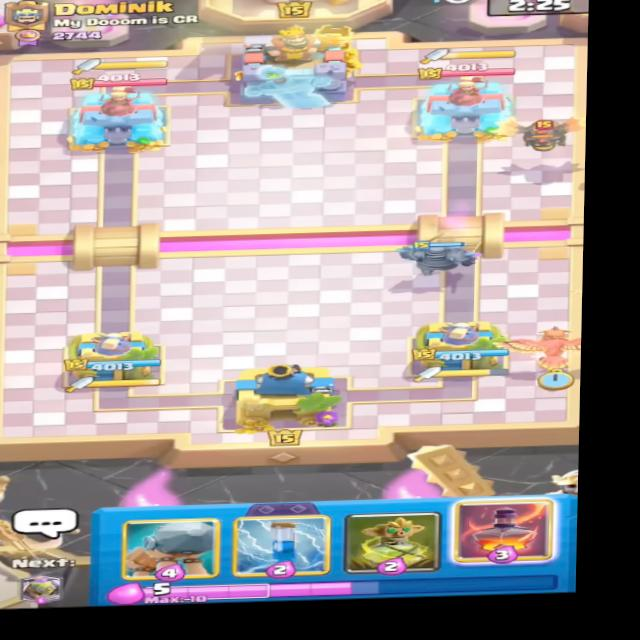lava-hound: (504, 108, 586, 157)
